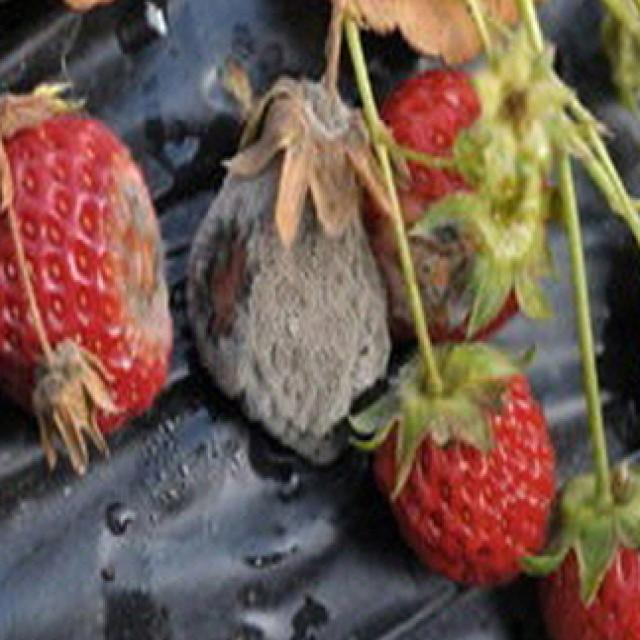Gray Mold: (187, 75, 394, 466), (88, 158, 173, 359)
